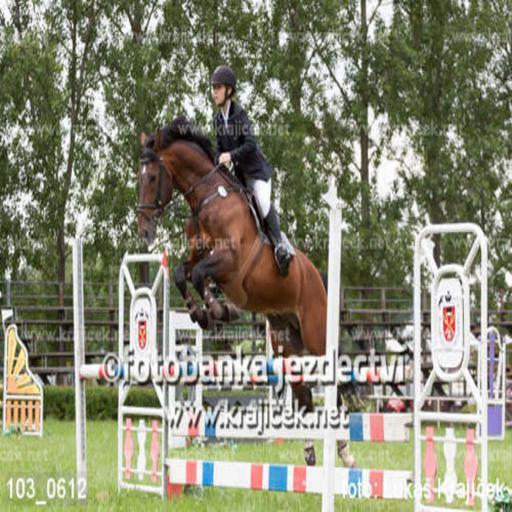horse: (134, 116, 371, 470)
